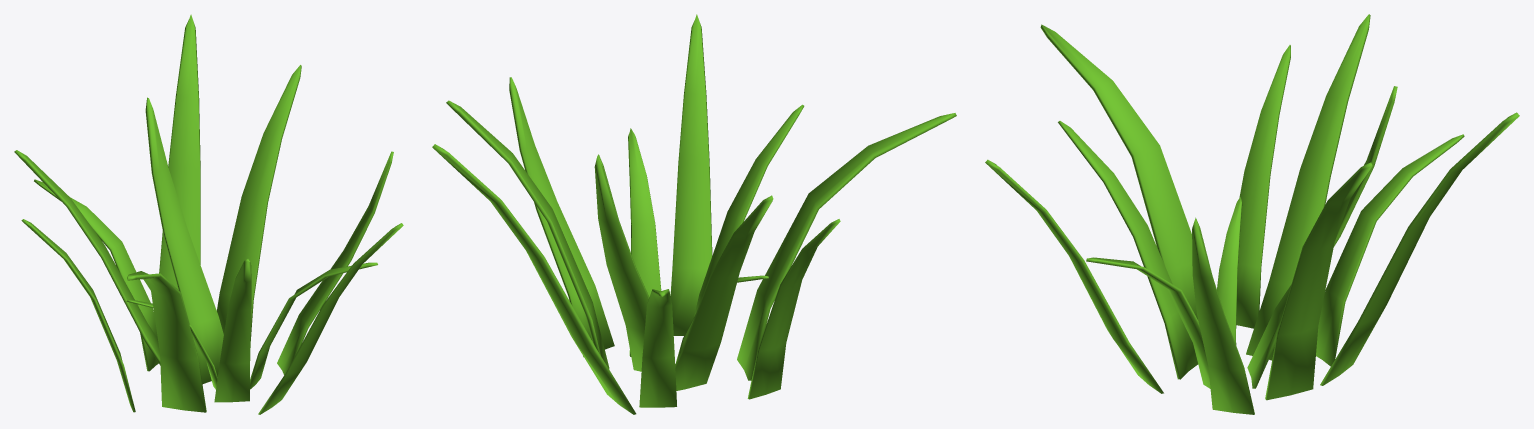
The model's file is Grass.fbx.
3 views of the same model, side by side, from view 1: azimuth 30°, elevation 25°; view 2: azimuth 150°, elevation 25°; view 3: azimuth 270°, elevation 25° (orthographic). The views are drawn at different scales.
Parts seen in each view (by area): view 1: Grass; view 2: Grass; view 3: Grass.
Boxes of the visible parts, bbox=[...] form: Grass: bbox=[14, 14, 403, 414]; Grass: bbox=[432, 14, 956, 414]; Grass: bbox=[985, 14, 1519, 414].
Size of the model in its own units: 0.4922 by 0.3725 by 0.573.
